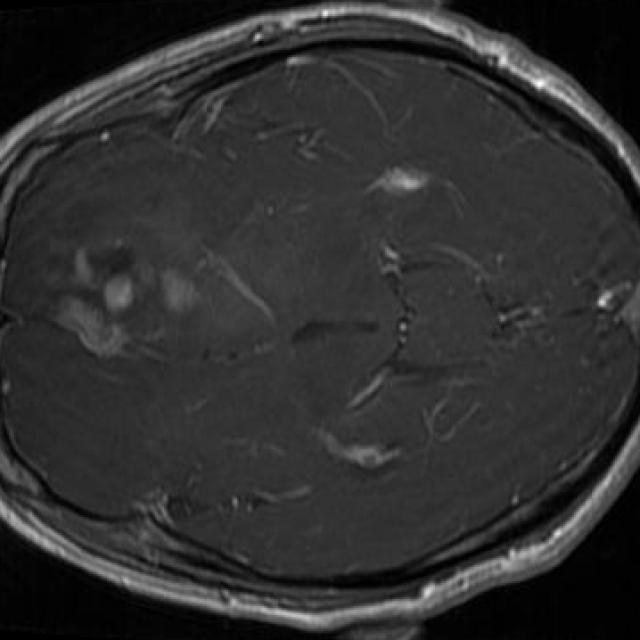glioma: (55, 244, 200, 355)
